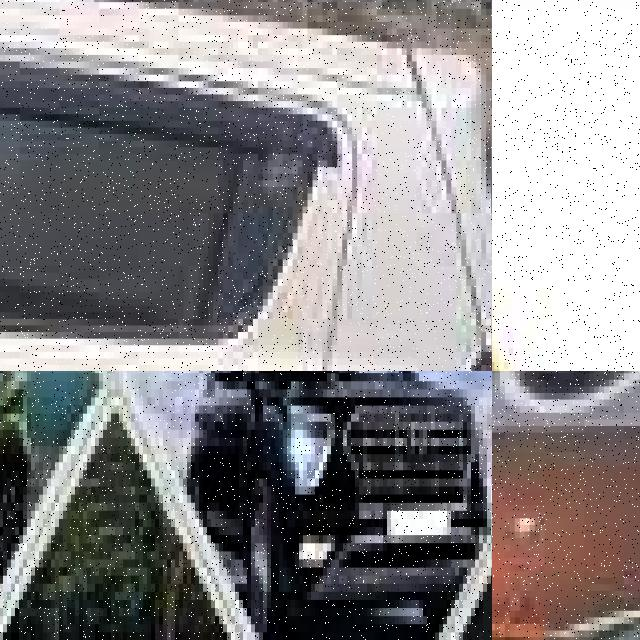bike: (492, 446, 640, 640)
car: (0, 0, 492, 371), (193, 371, 492, 640), (492, 151, 640, 371)
